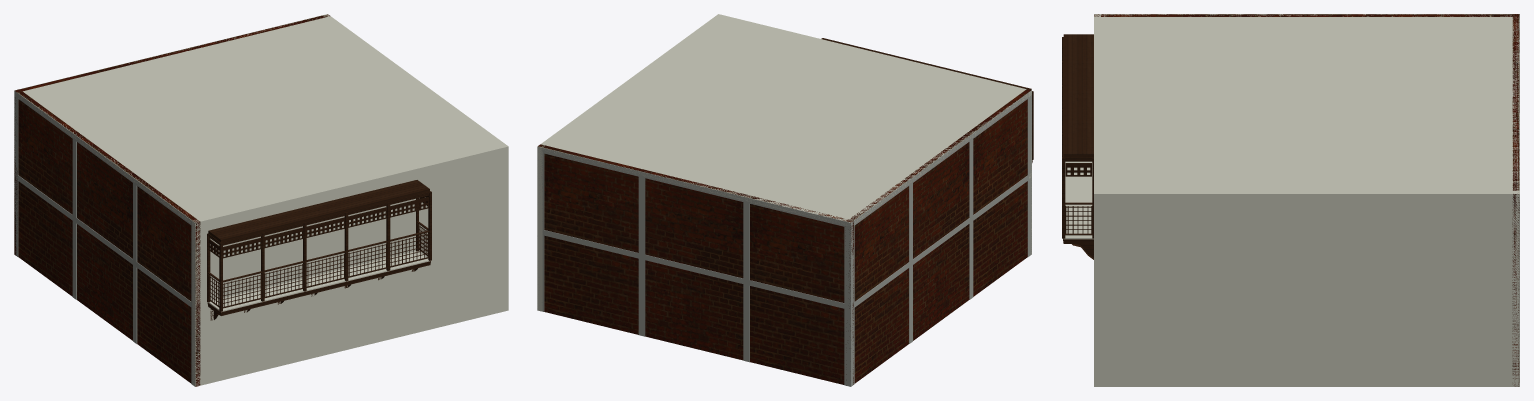
The model's file is building.glb.
3 views of the same model, side by side, from view 1: azimuth 30°, elevation 25°; view 2: azimuth 150°, elevation 25°; view 3: azimuth 270°, elevation 25° (orthographic). The views are drawn at different scales.
Visible parts, largest first — view 1: roof/house:0/roof_slab#0001, house:0/edge0/z0/house:0/edge0/z0/wall_0_0, house:0/edge3/z0/house:0/edge3/z0/wall_0_0, balcony/sample/balcony_cover#0001, balcony/sample/balcony_platform#0001, house:0/edge2/z0/house:0/edge2/z0/wall_0_0, house:0/edge3/z0/house:0/edge3/z0/beam_0_0, house:0/edge3/z0/house:0/edge3/z0/beam_1_0, house:0/edge1/z0/house:0/edge1/z0/wall_0_0, balcony/sample/balcony_fascia#0001, balcony/sample/balcony_cover_cornice#0001, balcony/sample/balcony_handrail#0001 (+5 smaller); view 2: roof/house:0/roof_slab#0001, house:0/edge2/z0/house:0/edge2/z0/wall_0_0, house:0/edge3/z0/house:0/edge3/z0/wall_0_0, house:0/edge1/z0/house:0/edge1/z0/wall_0_0, house:0/edge2/z0/house:0/edge2/z0/beam_0_0, house:0/edge2/z0/house:0/edge2/z0/beam_1_0, house:0/edge3/z0/house:0/edge3/z0/beam_0_0, house:0/edge0/z0/house:0/edge0/z0/wall_0_0, house:0/edge3/z0/house:0/edge3/z0/beam_1_0, house:0/edge2/z0/house:0/edge2/z0/column_2_0, house:0/edge2/z0/house:0/edge2/z0/column_1_1, house:0/edge2/z0/house:0/edge2/z0/column_2_1 (+4 smaller); view 3: house:0/edge1/z0/house:0/edge1/z0/wall_0_0, roof/house:0/roof_slab#0001, balcony/sample/balcony_cover#0001, house:0/edge0/z0/house:0/edge0/z0/wall_0_0, house:0/edge2/z0/house:0/edge2/z0/wall_0_0, balcony/sample/balcony_platform#0001, house:0/edge3/z0/house:0/edge3/z0/wall_0_0.
Part boxes in pixels (x1,y1,x2,y2): roof/house:0/roof_slab#0001: (16, 15, 507, 225); house:0/edge0/z0/house:0/edge0/z0/wall_0_0: (192, 144, 508, 386); house:0/edge3/z0/house:0/edge3/z0/wall_0_0: (17, 89, 200, 386); balcony/sample/balcony_cover#0001: (208, 180, 429, 242); balcony/sample/balcony_platform#0001: (208, 251, 429, 312); house:0/edge2/z0/house:0/edge2/z0/wall_0_0: (14, 14, 329, 255); house:0/edge3/z0/house:0/edge3/z0/beam_0_0: (14, 173, 195, 309); house:0/edge3/z0/house:0/edge3/z0/beam_1_0: (14, 91, 195, 228); house:0/edge1/z0/house:0/edge1/z0/wall_0_0: (323, 14, 508, 311); balcony/sample/balcony_fascia#0001: (207, 261, 430, 315); balcony/sample/balcony_cover_cornice#0001: (208, 192, 429, 245); balcony/sample/balcony_handrail#0001: (208, 221, 429, 282); roof/house:0/roof_slab#0001: (540, 14, 1031, 225); house:0/edge2/z0/house:0/edge2/z0/wall_0_0: (538, 144, 853, 384); house:0/edge3/z0/house:0/edge3/z0/wall_0_0: (846, 89, 1030, 383); house:0/edge1/z0/house:0/edge1/z0/wall_0_0: (537, 14, 721, 311); house:0/edge2/z0/house:0/edge2/z0/beam_0_0: (542, 230, 851, 310); house:0/edge2/z0/house:0/edge2/z0/beam_1_0: (538, 146, 851, 228); house:0/edge3/z0/house:0/edge3/z0/beam_0_0: (850, 172, 1031, 309); house:0/edge0/z0/house:0/edge0/z0/wall_0_0: (716, 14, 1031, 253); house:0/edge3/z0/house:0/edge3/z0/beam_1_0: (850, 90, 1031, 227); house:0/edge2/z0/house:0/edge2/z0/column_2_0: (638, 177, 645, 254); house:0/edge2/z0/house:0/edge2/z0/column_1_1: (844, 227, 851, 304); house:0/edge2/z0/house:0/edge2/z0/column_2_1: (638, 259, 645, 336); house:0/edge1/z0/house:0/edge1/z0/wall_0_0: (1094, 191, 1519, 386); roof/house:0/roof_slab#0001: (1094, 14, 1519, 198); balcony/sample/balcony_cover#0001: (1063, 34, 1093, 157); house:0/edge0/z0/house:0/edge0/z0/wall_0_0: (1094, 14, 1100, 386); house:0/edge2/z0/house:0/edge2/z0/wall_0_0: (1512, 14, 1519, 386); balcony/sample/balcony_platform#0001: (1064, 161, 1093, 239); house:0/edge3/z0/house:0/edge3/z0/wall_0_0: (1094, 14, 1519, 16).
Size of the model in its own units: 12 by 6 by 12.89.
Materials: 4 (2 with a texture image).
